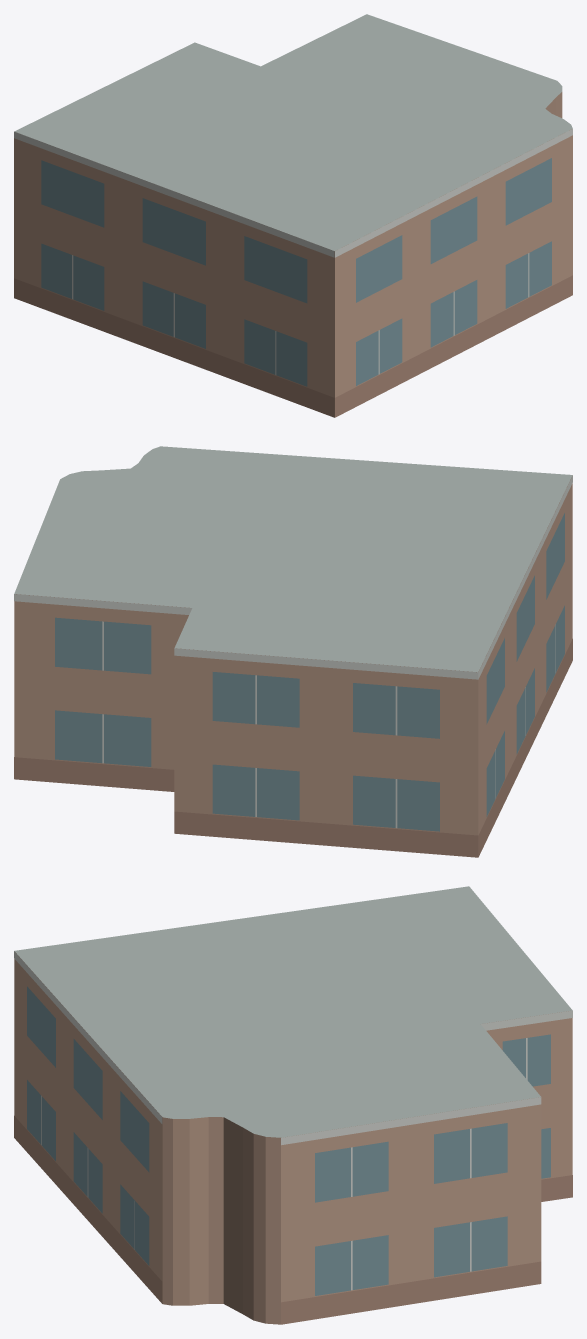
The model's file is survey-upis-32721264.glb.
3 renders of one model, top to bottom at view 1: azimuth 30°, elevation 25°; view 2: azimuth 150°, elevation 25°; view 3: azimuth 270°, elevation 25°, orthographic. The views are drawn at different scales.
Parts seen in each view (by area): view 1: survey-upis-32721264.tmp; view 2: survey-upis-32721264.tmp; view 3: survey-upis-32721264.tmp.
Boxes of the visible parts, x1=… form: survey-upis-32721264.tmp: x1=14, y1=14, x2=572, y2=417; survey-upis-32721264.tmp: x1=14, y1=446, x2=572, y2=857; survey-upis-32721264.tmp: x1=14, y1=886, x2=572, y2=1324.
Size of the model in its own units: 17.62 by 6.1 by 16.54.
